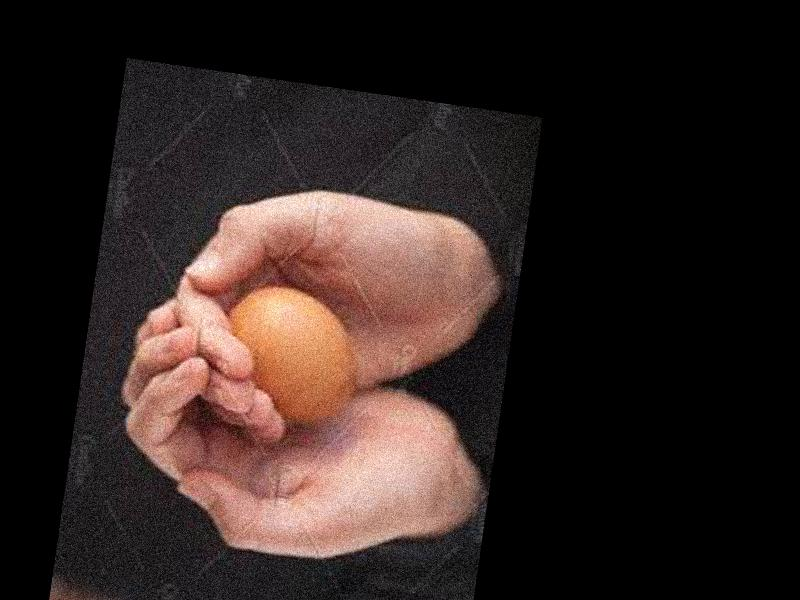Eggs: (218, 280, 367, 435)
